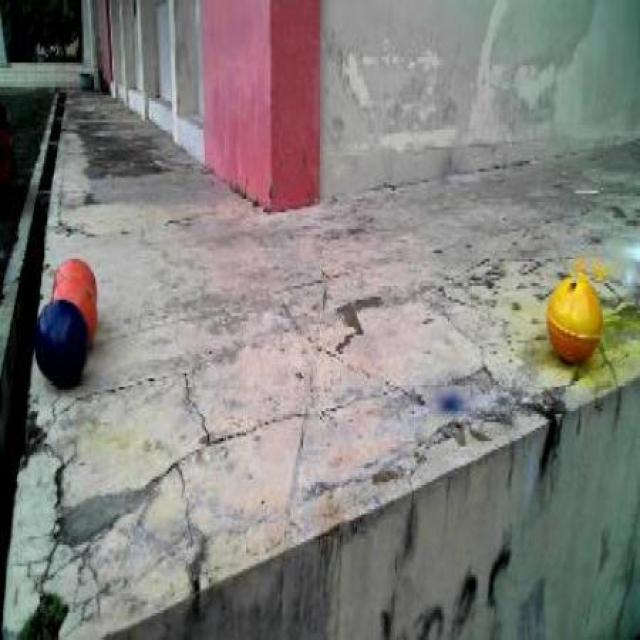buoy: (540, 258, 608, 376), (28, 284, 91, 394), (47, 265, 101, 342), (51, 242, 100, 300)
